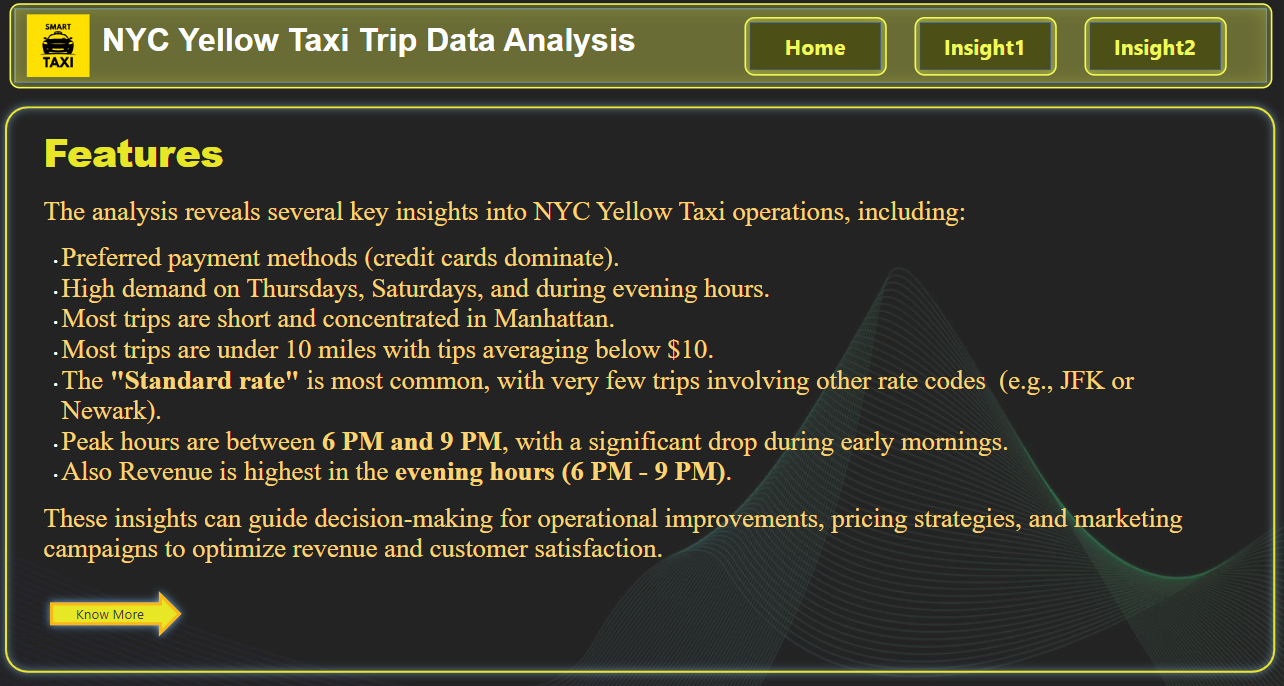

What the dashboard file says about the page in this screenshot:
{"tool":"powerbi","page":{"name":"Features","canvas":[1280,720],"ordinal":3},"visuals":[{"type":"shape","box":[12.3,10.8,1257,84.5],"z":0,"group":"g3"},{"type":"textbox","box":[41.1,197.8,1201.7,464],"z":0},{"type":"shape","box":[743.7,24.6,141.4,58.4],"z":1000,"group":"g3"},{"type":"shape","box":[0,105.7,1280,579.7],"z":1000,"group":"g2"},{"type":"group","id":"g1","title":"Group 2","box":[12.3,10.8,1257,84.5],"z":2000},{"type":"shape","box":[912.8,24.6,141.4,58.4],"z":2000,"group":"g3"},{"type":"shape","box":[1081.8,24.6,141.4,58.4],"z":3000,"group":"g3"},{"type":"textbox","box":[41.1,128.1,301,69.7],"z":3000},{"type":"shape","box":[44.8,588.4,146.8,61],"z":4000,"group":"g2"},{"type":"group","id":"g2","title":"Group 3","box":[0,105.7,1280,579.7],"z":4001},{"type":"group","id":"g3","title":"Group 1","box":[12.3,10.8,1257,84.5],"z":15000,"group":"g1"},{"type":"image","box":[24.6,16.9,72.2,72.2],"z":16000,"group":"g1"},{"type":"textbox","box":[99.9,24.6,550.1,58.4],"z":17000,"group":"g1"}]}

Visuals, with their boxes on the page's 1280x720 design canvas (x1, y1, x2, y2). These are canvas units, not pixel positions in the 1284x686 screenshot, which may show the page scaled, cropped or inside an application window:
shape: l=12, t=11, r=1269, b=95
textbox: l=41, t=198, r=1243, b=662
shape: l=744, t=25, r=885, b=83
shape: l=0, t=106, r=1280, b=685
"Group 2" group: l=12, t=11, r=1269, b=95
shape: l=913, t=25, r=1054, b=83
shape: l=1082, t=25, r=1223, b=83
textbox: l=41, t=128, r=342, b=198
shape: l=45, t=588, r=192, b=649
"Group 3" group: l=0, t=106, r=1280, b=685
"Group 1" group: l=12, t=11, r=1269, b=95
image: l=25, t=17, r=97, b=89
textbox: l=100, t=25, r=650, b=83
